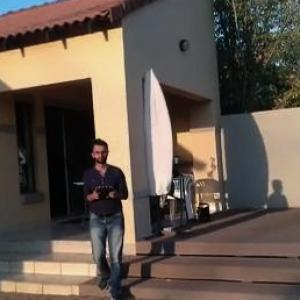follow: (81, 132, 135, 299)
